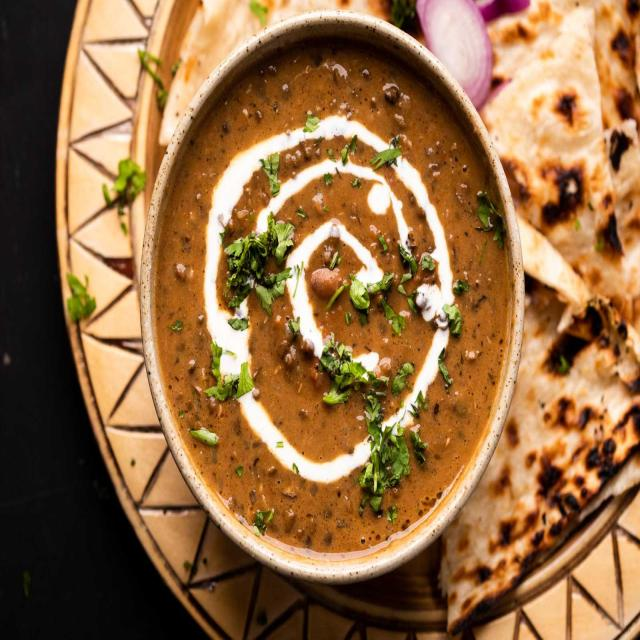dal_makhani: (170, 18, 497, 565)
